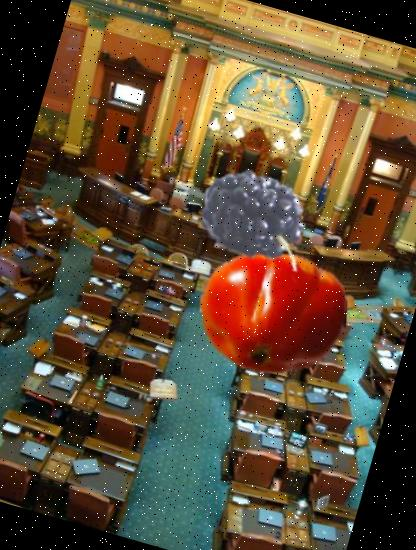Mulberry: (179, 134, 331, 286)
Tomato: (181, 222, 364, 404)
